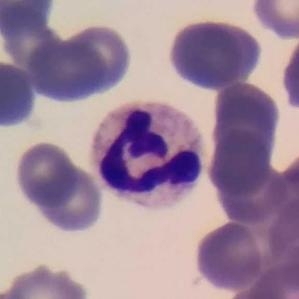Neutrophil: (85, 96, 213, 221)
RBC: (164, 14, 266, 92), (24, 153, 106, 235), (55, 21, 135, 102), (208, 79, 283, 163), (27, 34, 109, 106), (191, 220, 265, 292), (11, 138, 82, 212), (210, 159, 288, 226), (205, 126, 273, 200), (0, 5, 65, 72), (1, 260, 92, 299), (0, 57, 40, 131), (266, 194, 299, 262), (0, 0, 60, 37), (267, 153, 299, 222), (277, 26, 299, 123), (245, 259, 299, 298), (248, 0, 299, 40), (222, 278, 297, 298)
